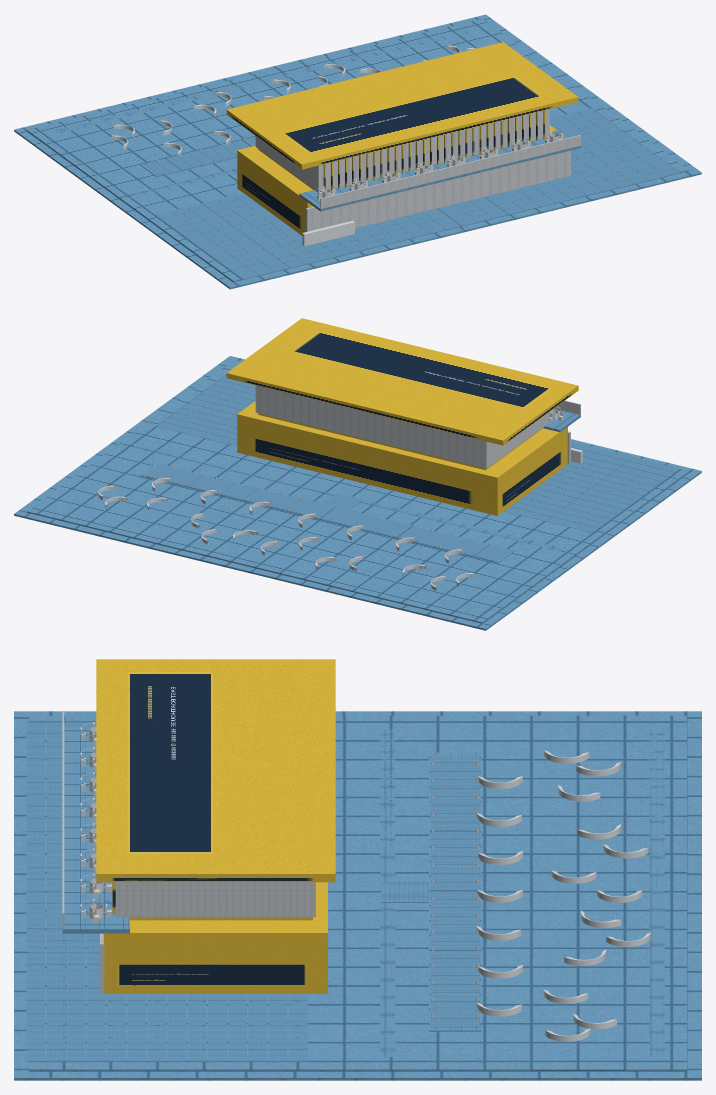
The picture shows the model from 3 angles, top to bottom: view 1: azimuth 30°, elevation 25°; view 2: azimuth 150°, elevation 25°; view 3: azimuth 270°, elevation 25°; orthographic projection. The views are drawn at different scales.
Visible parts, largest first — view 1: 28185_01_21998_007_01__promenade_base, 28185_01_21998_007_02__clubhouse_mass, 28185_01_21998_007_03__seawater_canal, 28185_01_21998_007_04__moon_boats_signs; view 2: 28185_01_21998_007_01__promenade_base, 28185_01_21998_007_02__clubhouse_mass, 28185_01_21998_007_03__seawater_canal, 28185_01_21998_007_04__moon_boats_signs; view 3: 28185_01_21998_007_01__promenade_base, 28185_01_21998_007_02__clubhouse_mass, 28185_01_21998_007_04__moon_boats_signs, 28185_01_21998_007_03__seawater_canal.
Part boxes in pixels (x1=…): 28185_01_21998_007_01__promenade_base: x1=14, y1=14, x2=701, y2=289; 28185_01_21998_007_02__clubhouse_mass: x1=226, y1=42, x2=578, y2=235; 28185_01_21998_007_03__seawater_canal: x1=255, y1=109, x2=580, y2=231; 28185_01_21998_007_04__moon_boats_signs: x1=111, y1=45, x2=564, y2=246; 28185_01_21998_007_01__promenade_base: x1=14, y1=356, x2=701, y2=630; 28185_01_21998_007_02__clubhouse_mass: x1=226, y1=318, x2=578, y2=515; 28185_01_21998_007_03__seawater_canal: x1=255, y1=385, x2=580, y2=468; 28185_01_21998_007_04__moon_boats_signs: x1=98, y1=407, x2=582, y2=590; 28185_01_21998_007_01__promenade_base: x1=14, y1=711, x2=701, y2=1080; 28185_01_21998_007_02__clubhouse_mass: x1=96, y1=659, x2=335, y2=993; 28185_01_21998_007_04__moon_boats_signs: x1=79, y1=722, x2=650, y2=1041; 28185_01_21998_007_03__seawater_canal: x1=62, y1=711, x2=315, y2=992.
Size of the model in its own units: 58 by 9.65 by 46.
Materials: 4 (4 with a texture image).
